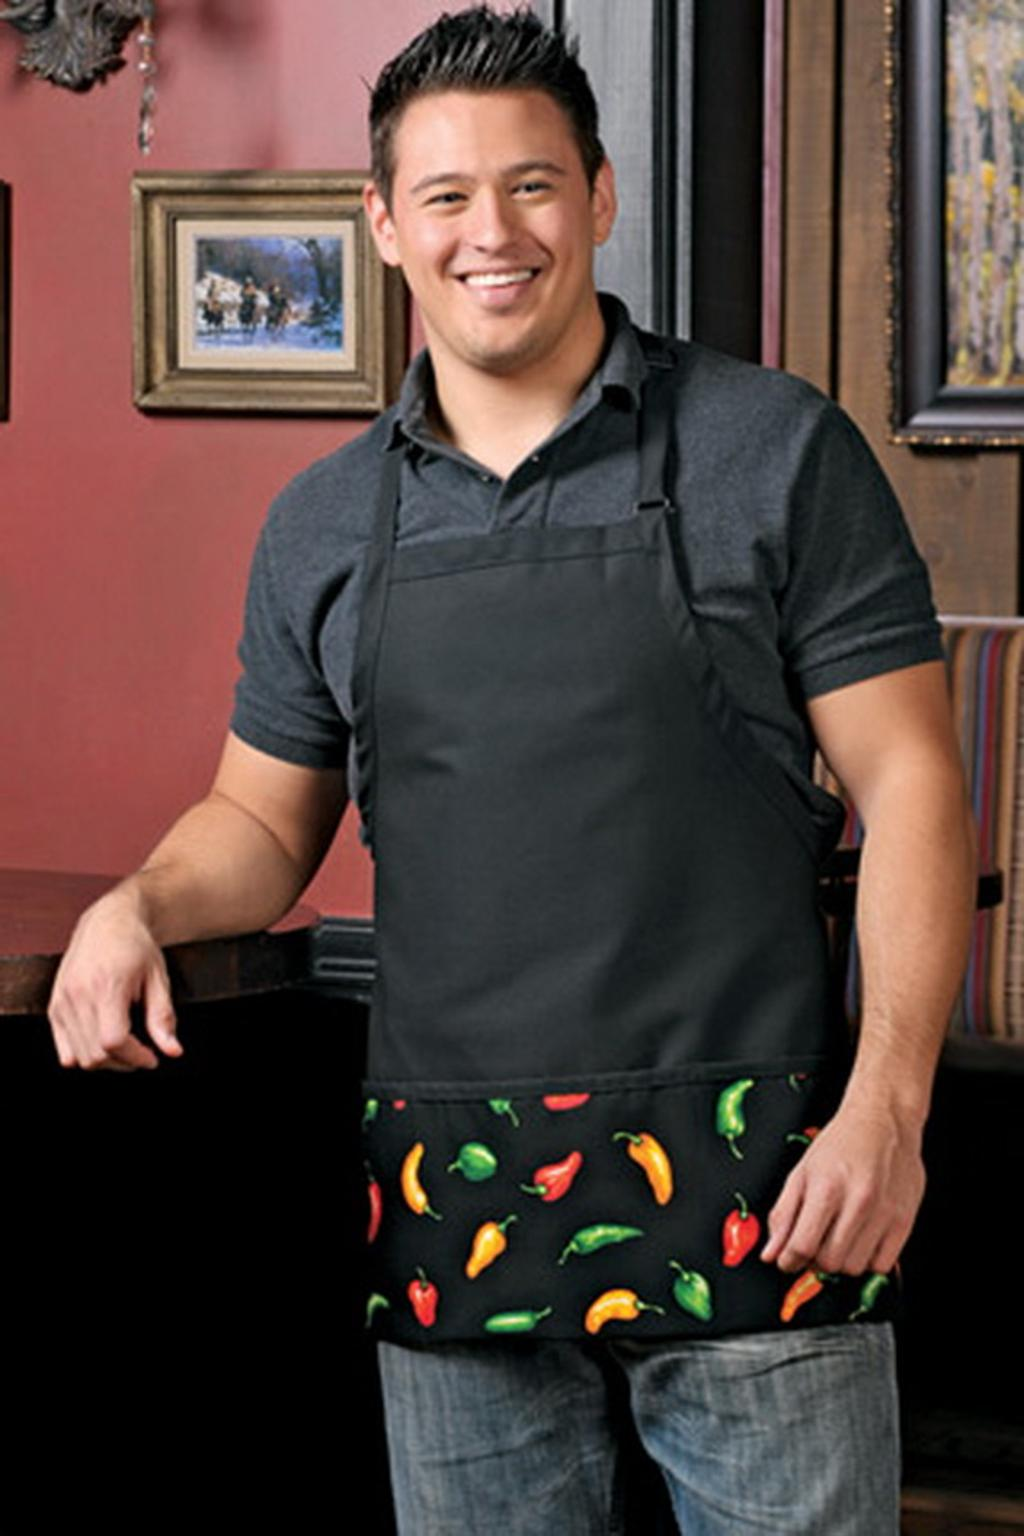face: (393, 96, 591, 354)
